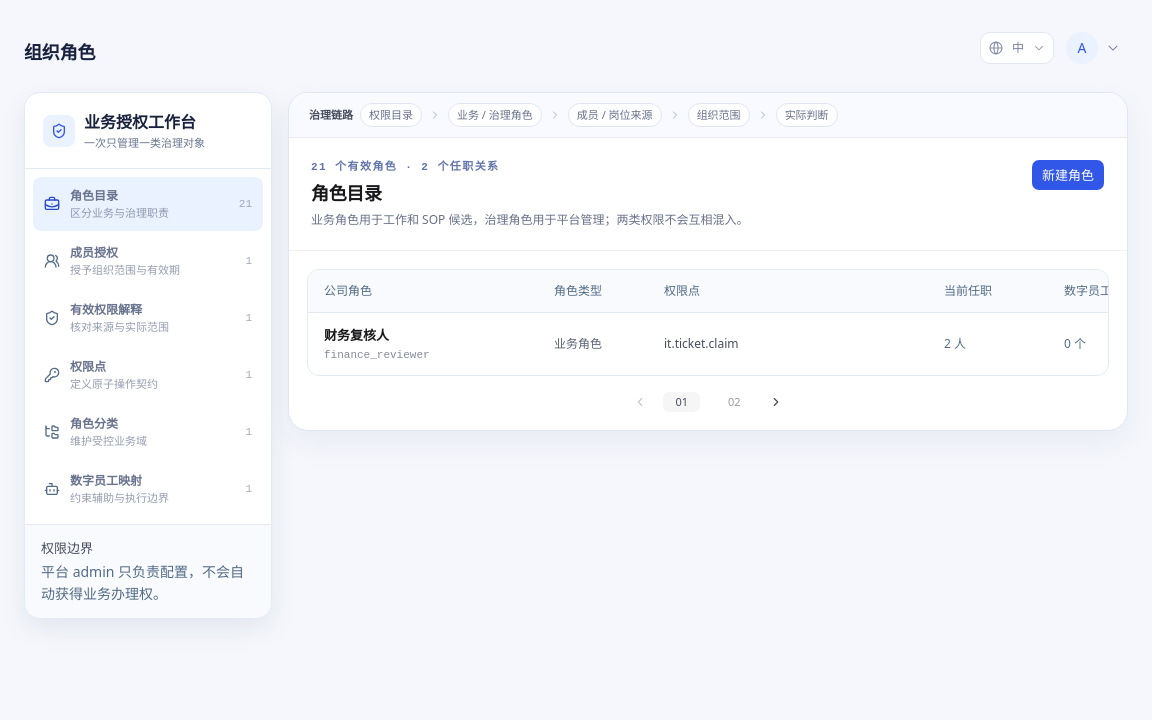
Test: 通过分页控件请求第二页角色
Click the button named "下一页" at [776, 402], box [769,395,783,409]
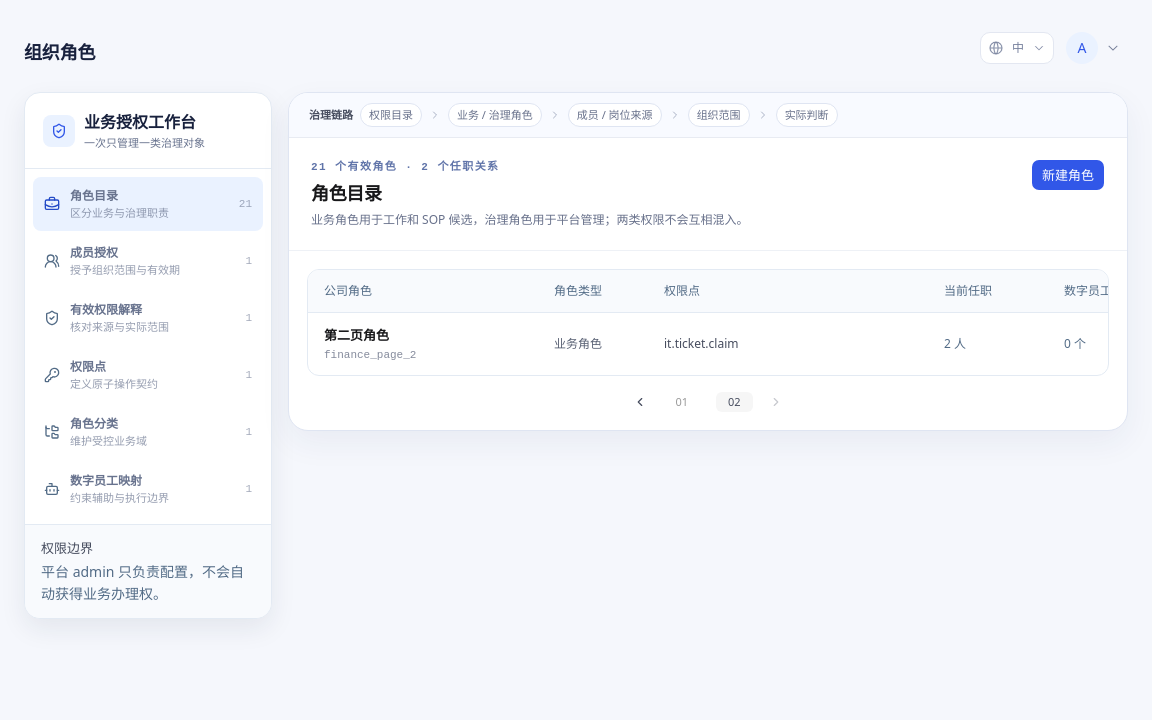
Check: the text "第二页角色" is shown, box [324,326,389,344]
